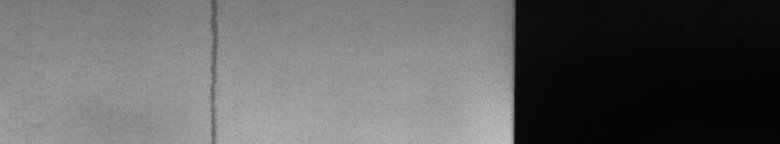hd: (207, 4, 223, 136)
